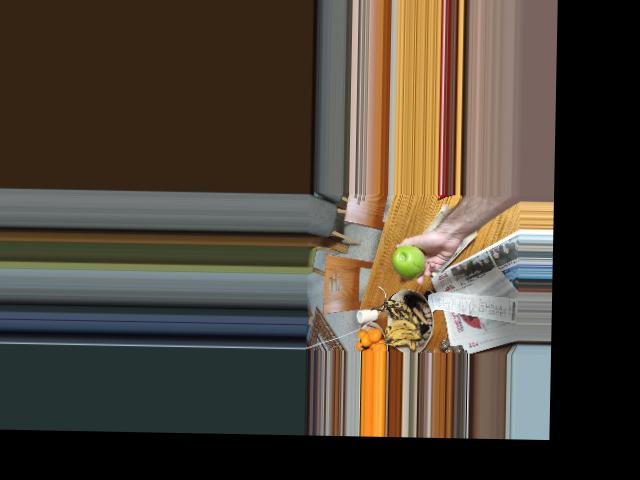apple: (389, 244, 426, 277)
